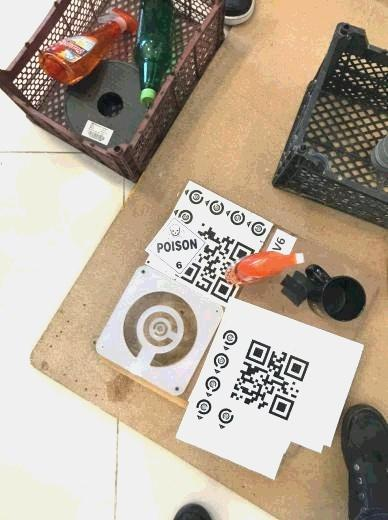poison: (144, 218, 210, 277)
